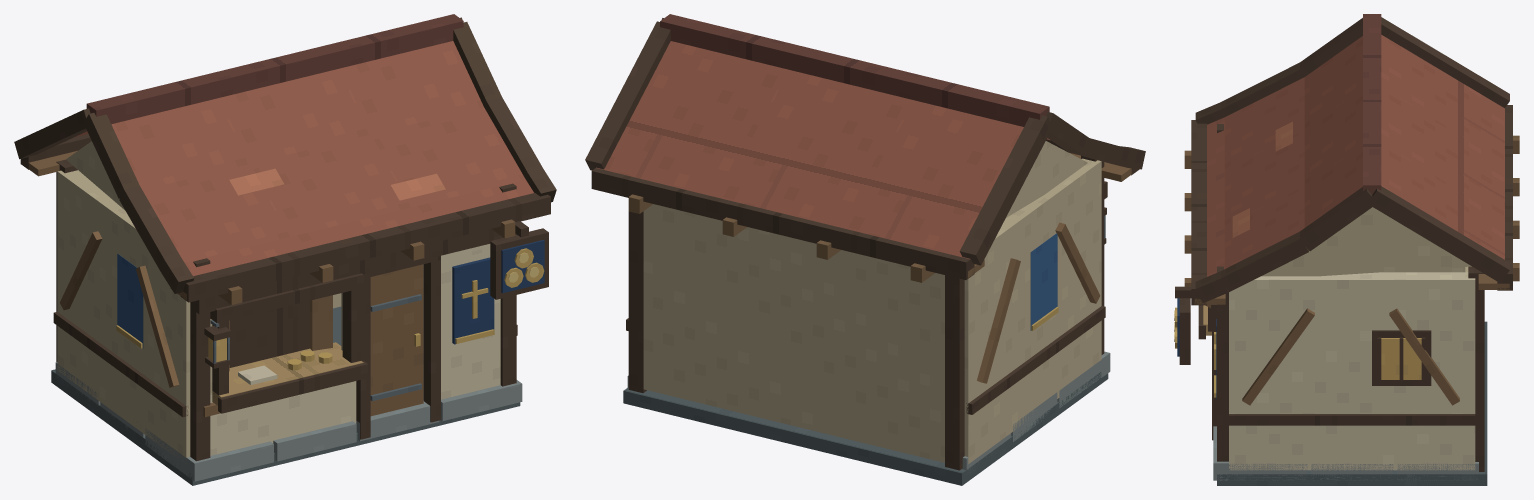
File: bank.glb
3 renders of one model, left to right at view 1: azimuth 30°, elevation 25°; view 2: azimuth 150°, elevation 25°; view 3: azimuth 270°, elevation 25°, orthographic. The views are drawn at different scales.
Visible parts, largest first — view 1: side-plaster-wall, heavy-ridge-cap, bellcast-roof-pitch.004, thick-eave-fascia, bellcast-roof-pitch.007, bellcast-roof-pitch.005, bellcast-roof-pitch.003, bellcast-roof-pitch.008, bellcast-roof-pitch.006, oak-door-leaf, service-bay-low-wall, door-right-wall (+38 smaller); view 2: back-plaster-wall, side-plaster-wall, bellcast-roof-pitch.010, bellcast-roof-pitch.011, bellcast-roof-pitch.009, heavy-ridge-cap, thick-eave-fascia.001, continuous-foundation, stepped-gable-bargeboard.003, corner-timber.001, stepped-gable-bargeboard.007, corner-timber.003 (+10 smaller); view 3: side-plaster-wall.001, bellcast-roof-pitch.010, plaster-gable.001, bellcast-roof-pitch.009, bellcast-roof-pitch.011, bellcast-roof-pitch.004, bellcast-roof-pitch.003, continuous-foundation, stepped-gable-bargeboard.007, heavy-ridge-cap, bellcast-roof-pitch.007, bellcast-roof-pitch.005 (+29 smaller).
Part boxes in pixels (x1,y1,x2,y2): side-plaster-wall: (57,170,190,463); heavy-ridge-cap: (86,14,463,124); bellcast-roof-pitch.004: (250,134,412,236); thick-eave-fascia: (180,193,550,302); bellcast-roof-pitch.007: (219,68,370,163); bellcast-roof-pitch.005: (371,107,525,206); bellcast-roof-pitch.003: (142,164,291,262); bellcast-roof-pitch.008: (340,41,483,134); bellcast-roof-pitch.006: (111,98,249,190); oak-door-leaf: (370,264,423,416); service-bay-low-wall: (210,381,356,455); door-right-wall: (441,244,500,399); back-plaster-wall: (643,204,944,462); side-plaster-wall: (964,158,1101,463); bellcast-roof-pitch.010: (721,69,911,228); bellcast-roof-pitch.011: (596,41,787,198); bellcast-roof-pitch.009: (845,100,1023,258); heavy-ridge-cap: (660,14,1049,126); thick-eave-fascia.001: (591,168,974,279); continuous-foundation: (623,372,1108,485); stepped-gable-bargeboard.003: (959,115,1050,265); corner-timber.001: (945,275,964,470); stepped-gable-bargeboard.007: (585,21,670,170); corner-timber.003: (628,211,646,392); side-plaster-wall.001: (1229,272,1475,470); bellcast-roof-pitch.010: (1381,87,1504,217); plaster-gable.001: (1261,207,1471,276); bellcast-roof-pitch.009: (1381,35,1504,160); bellcast-roof-pitch.011: (1381,144,1504,259); bellcast-roof-pitch.004: (1224,130,1304,225); bellcast-roof-pitch.003: (1224,77,1304,169); continuous-foundation: (1217,321,1487,485); stepped-gable-bargeboard.007: (1368,186,1509,283); heavy-ridge-cap: (1363,14,1381,194); bellcast-roof-pitch.007: (1304,88,1362,185); bellcast-roof-pitch.005: (1224,186,1304,268).
Size of the model in its own units: 4.57 by 3.74 by 3.78.
Materials: 1 (1 with a texture image).
